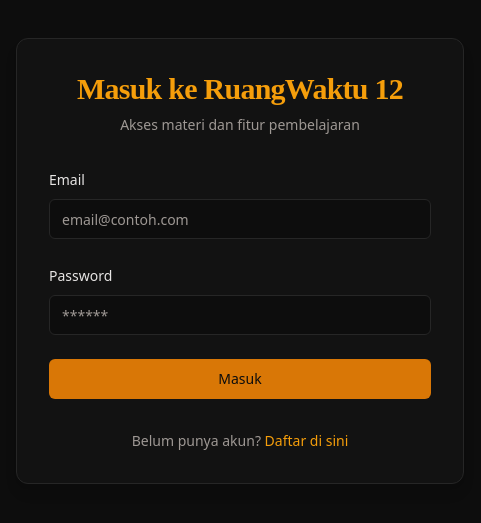
Test: LoginPage › handles login failure
This screenshot has width=481, height=523.
Type "wrong@example.com" into the field labelled "Email" at coordinates (240, 219), box [49,199,431,239]
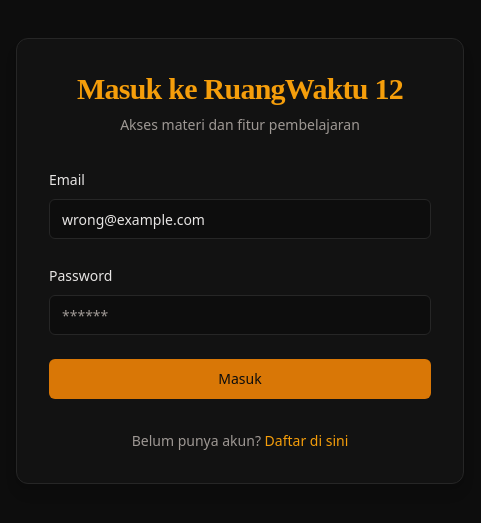
Type "wrong" into the password field labelled "Password" at coordinates (240, 315), box [49,295,431,335]
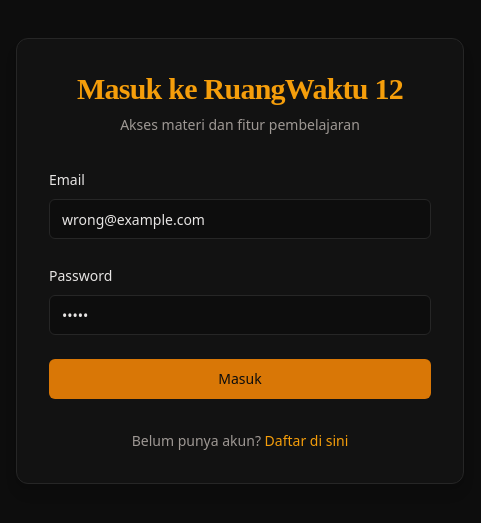
Click the button "Masuk" at coordinates (240, 379), box [49,359,431,399]
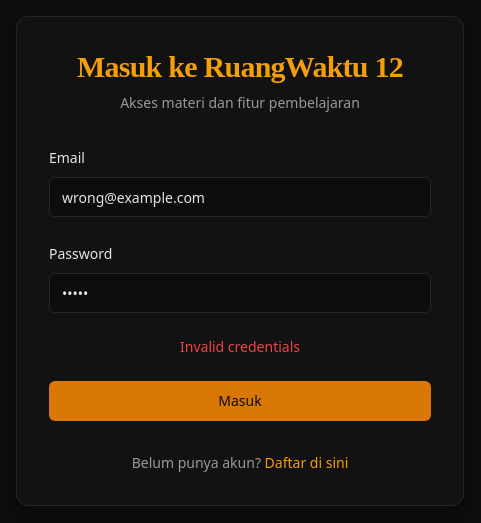
Expected: the text "Invalid credentials" is shown, [180,337,300,356]
